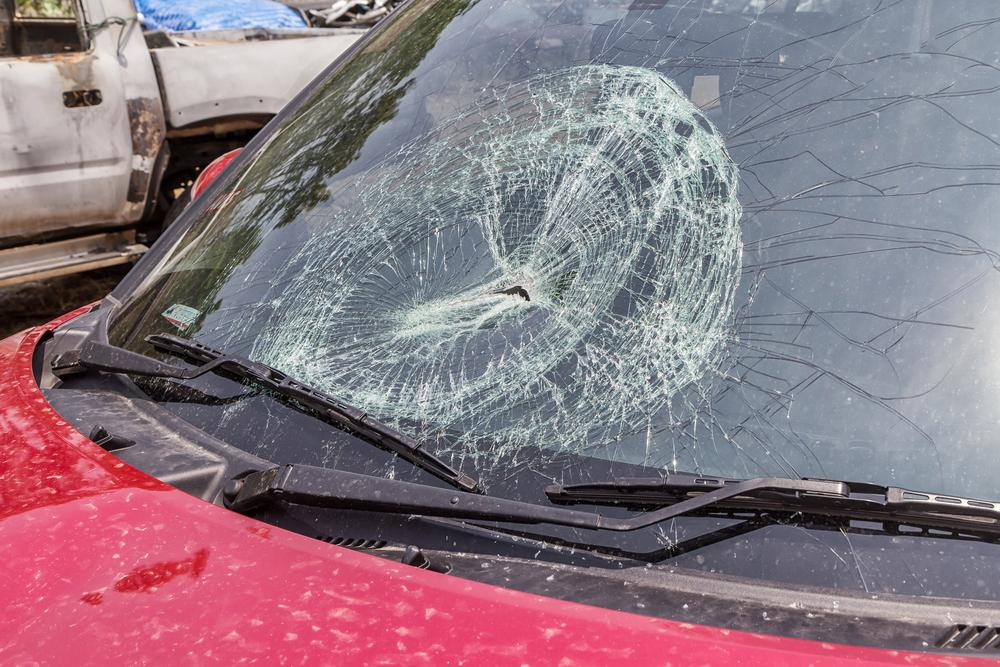glass shatter: (107, 0, 1000, 601)
